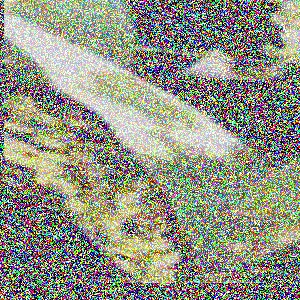Leaf_Blast: (91, 44, 251, 263)
